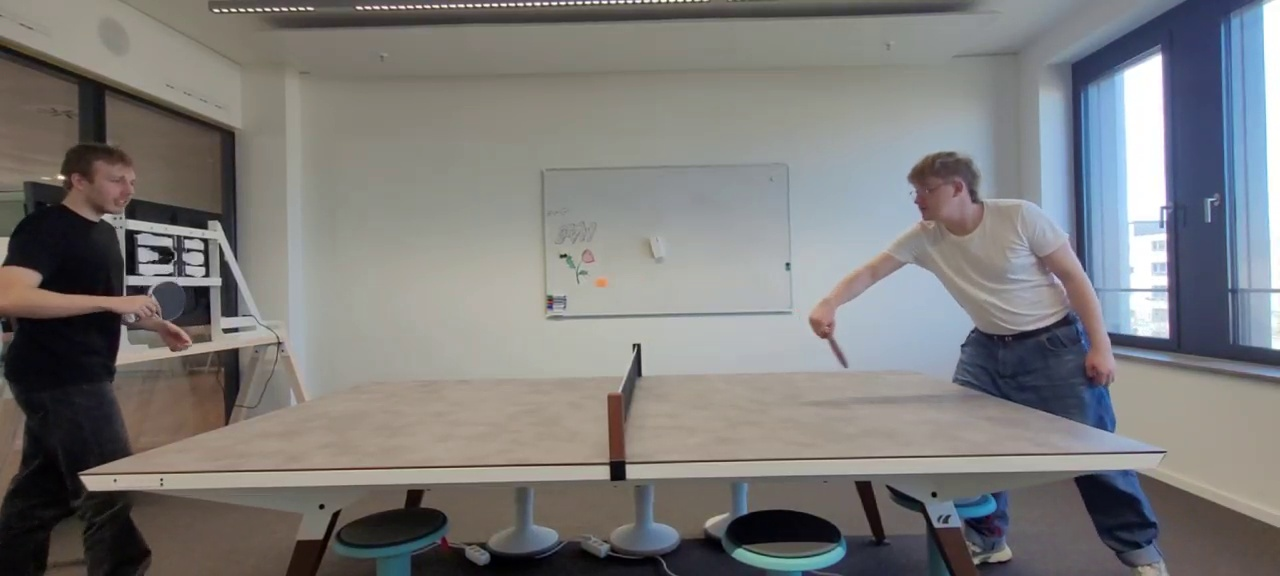plate: (80, 369, 1166, 473)
racket: (148, 281, 186, 322), (828, 335, 848, 368)
ttball: (598, 278, 606, 287)
